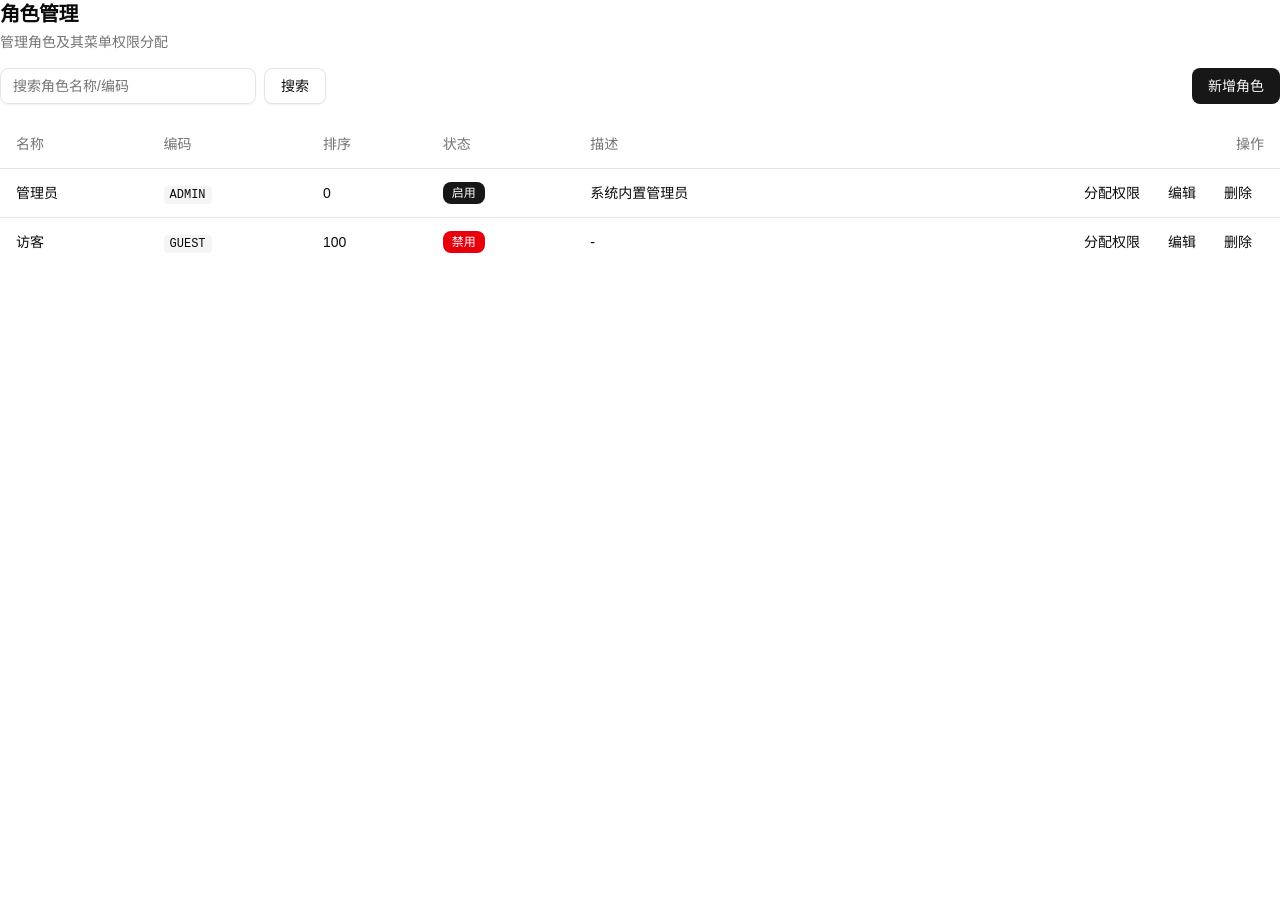
Test case: RolePage › 树形勾选联动：点击半选父节点全选整个子树（父 + 全部后代）
Expected: the text "管理员" is shown, [0,168,148,217]
What coordinates should you click on to do the following:
click the button "分配权限" in the row of "ADMIN"
I would click on:
 (1112, 192)
Its box is [1072,176,1152,208].
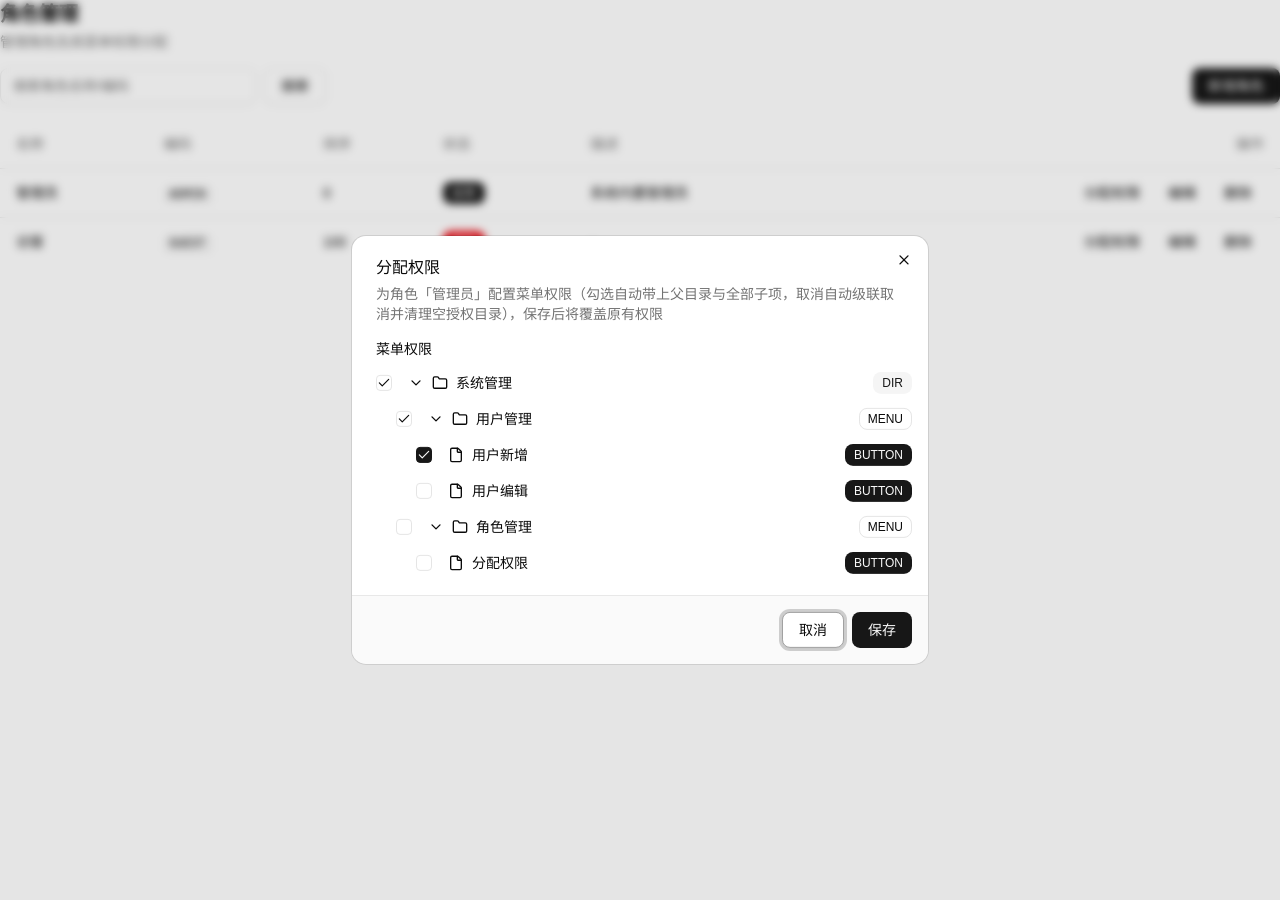
What coordinates should you click on to do the following:
click the checkbox named "用户管理"
I would click on:
 (404, 419)
Its box is [396,411,412,427].
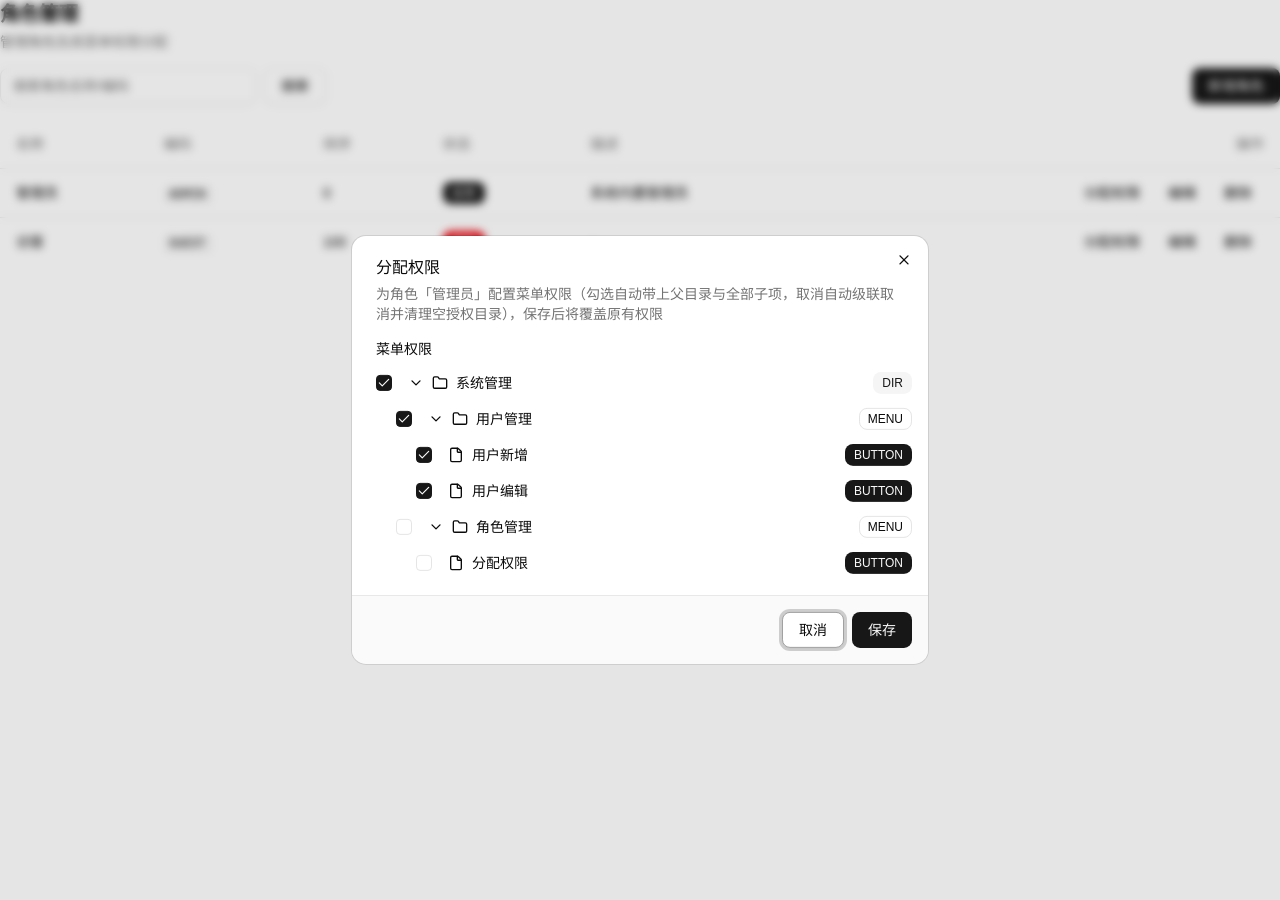
Now the checkbox named "用户管理" is checked, box [396,411,412,427]
Now the checkbox named "用户新增" is checked, box [416,447,432,463]
Now the checkbox named "用户编辑" is checked, box [416,483,432,499]
